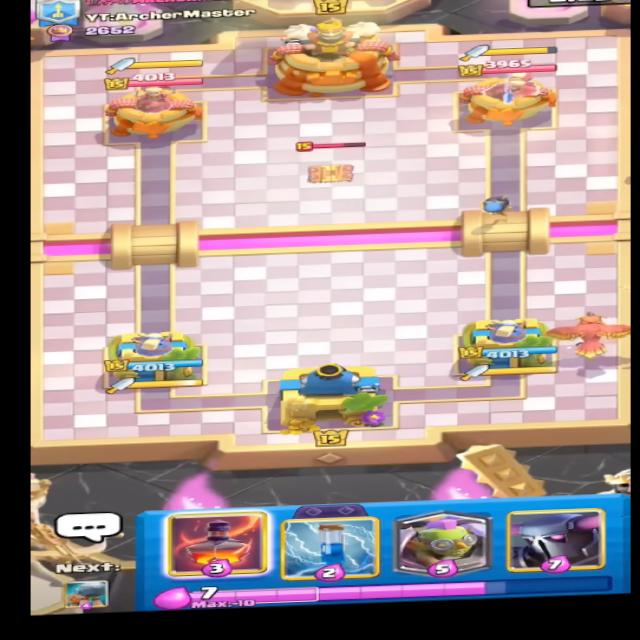tesla-closed: (286, 132, 376, 187)
